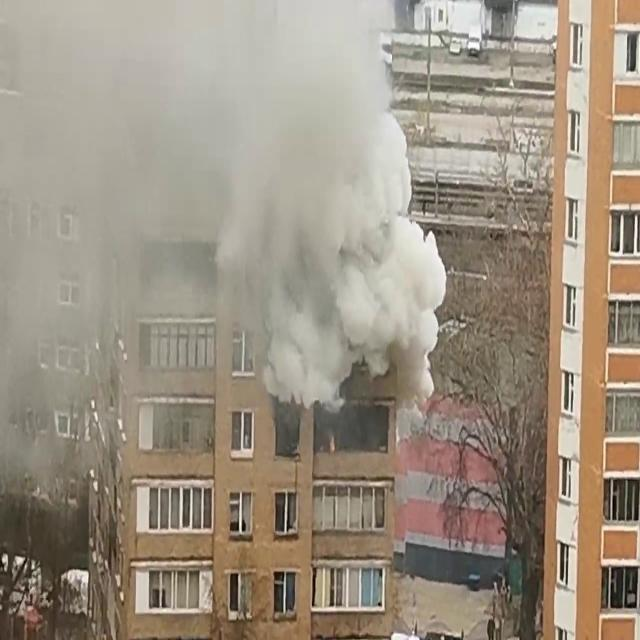Smoke: (214, 0, 449, 405), (0, 1, 164, 507)
